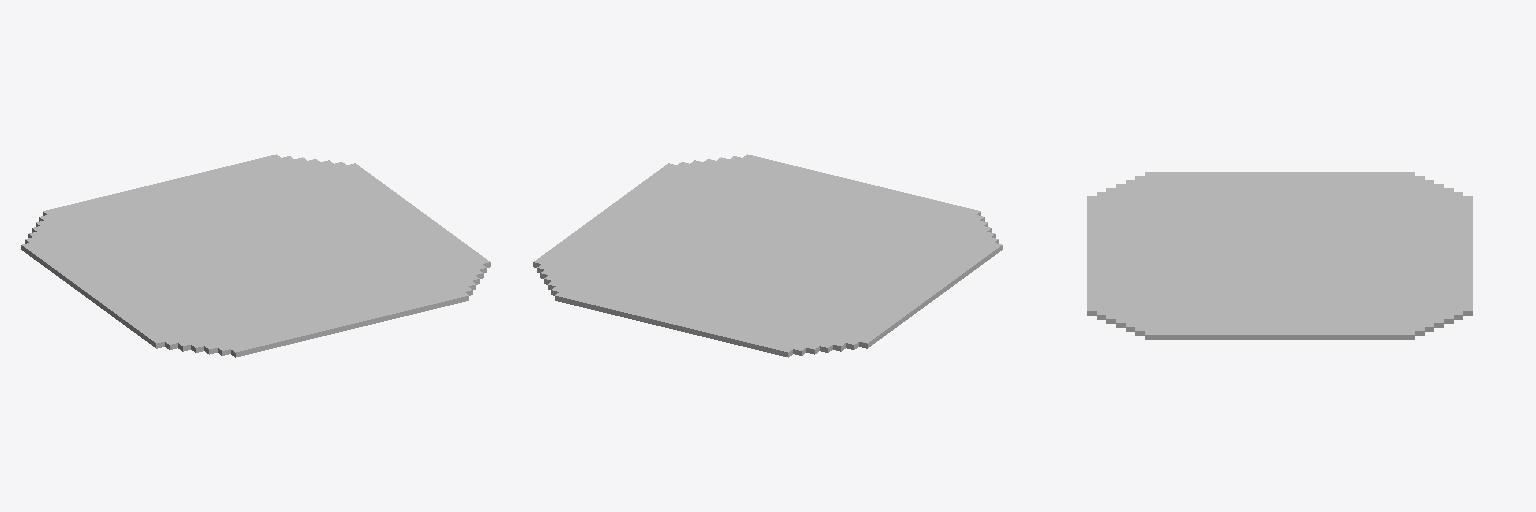
File: helipuerto.obj
The picture shows the model from 3 angles: view 1: azimuth 30°, elevation 25°; view 2: azimuth 150°, elevation 25°; view 3: azimuth 270°, elevation 25°; orthographic projection.
Parts seen in each view (by area): view 1: helipuerto; view 2: helipuerto; view 3: helipuerto.
Part boxes in pixels (x1,y1,x2,y2): helipuerto: (21,154,490,357); helipuerto: (533,154,1002,357); helipuerto: (1087,172,1472,339).
Bounding box in the file's own units: 34 × 0.5 × 34.